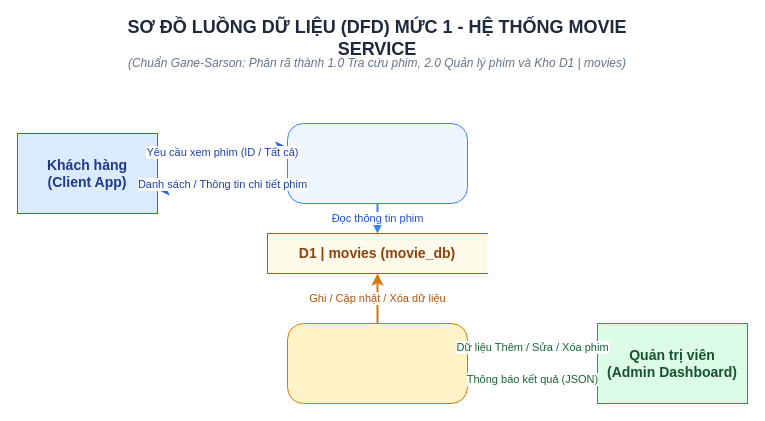
This 765x421 diagram has some shape labels left out. Here are the shapes that lost their labels. From the top down, the centre of each, then its label:
At (x=377, y=163): "1.0 Tra cứu phim (Danh sách & Chi tiết)".
At (x=377, y=363): "2.0 Quản lý phim (Thêm, Sửa, Xóa)".
